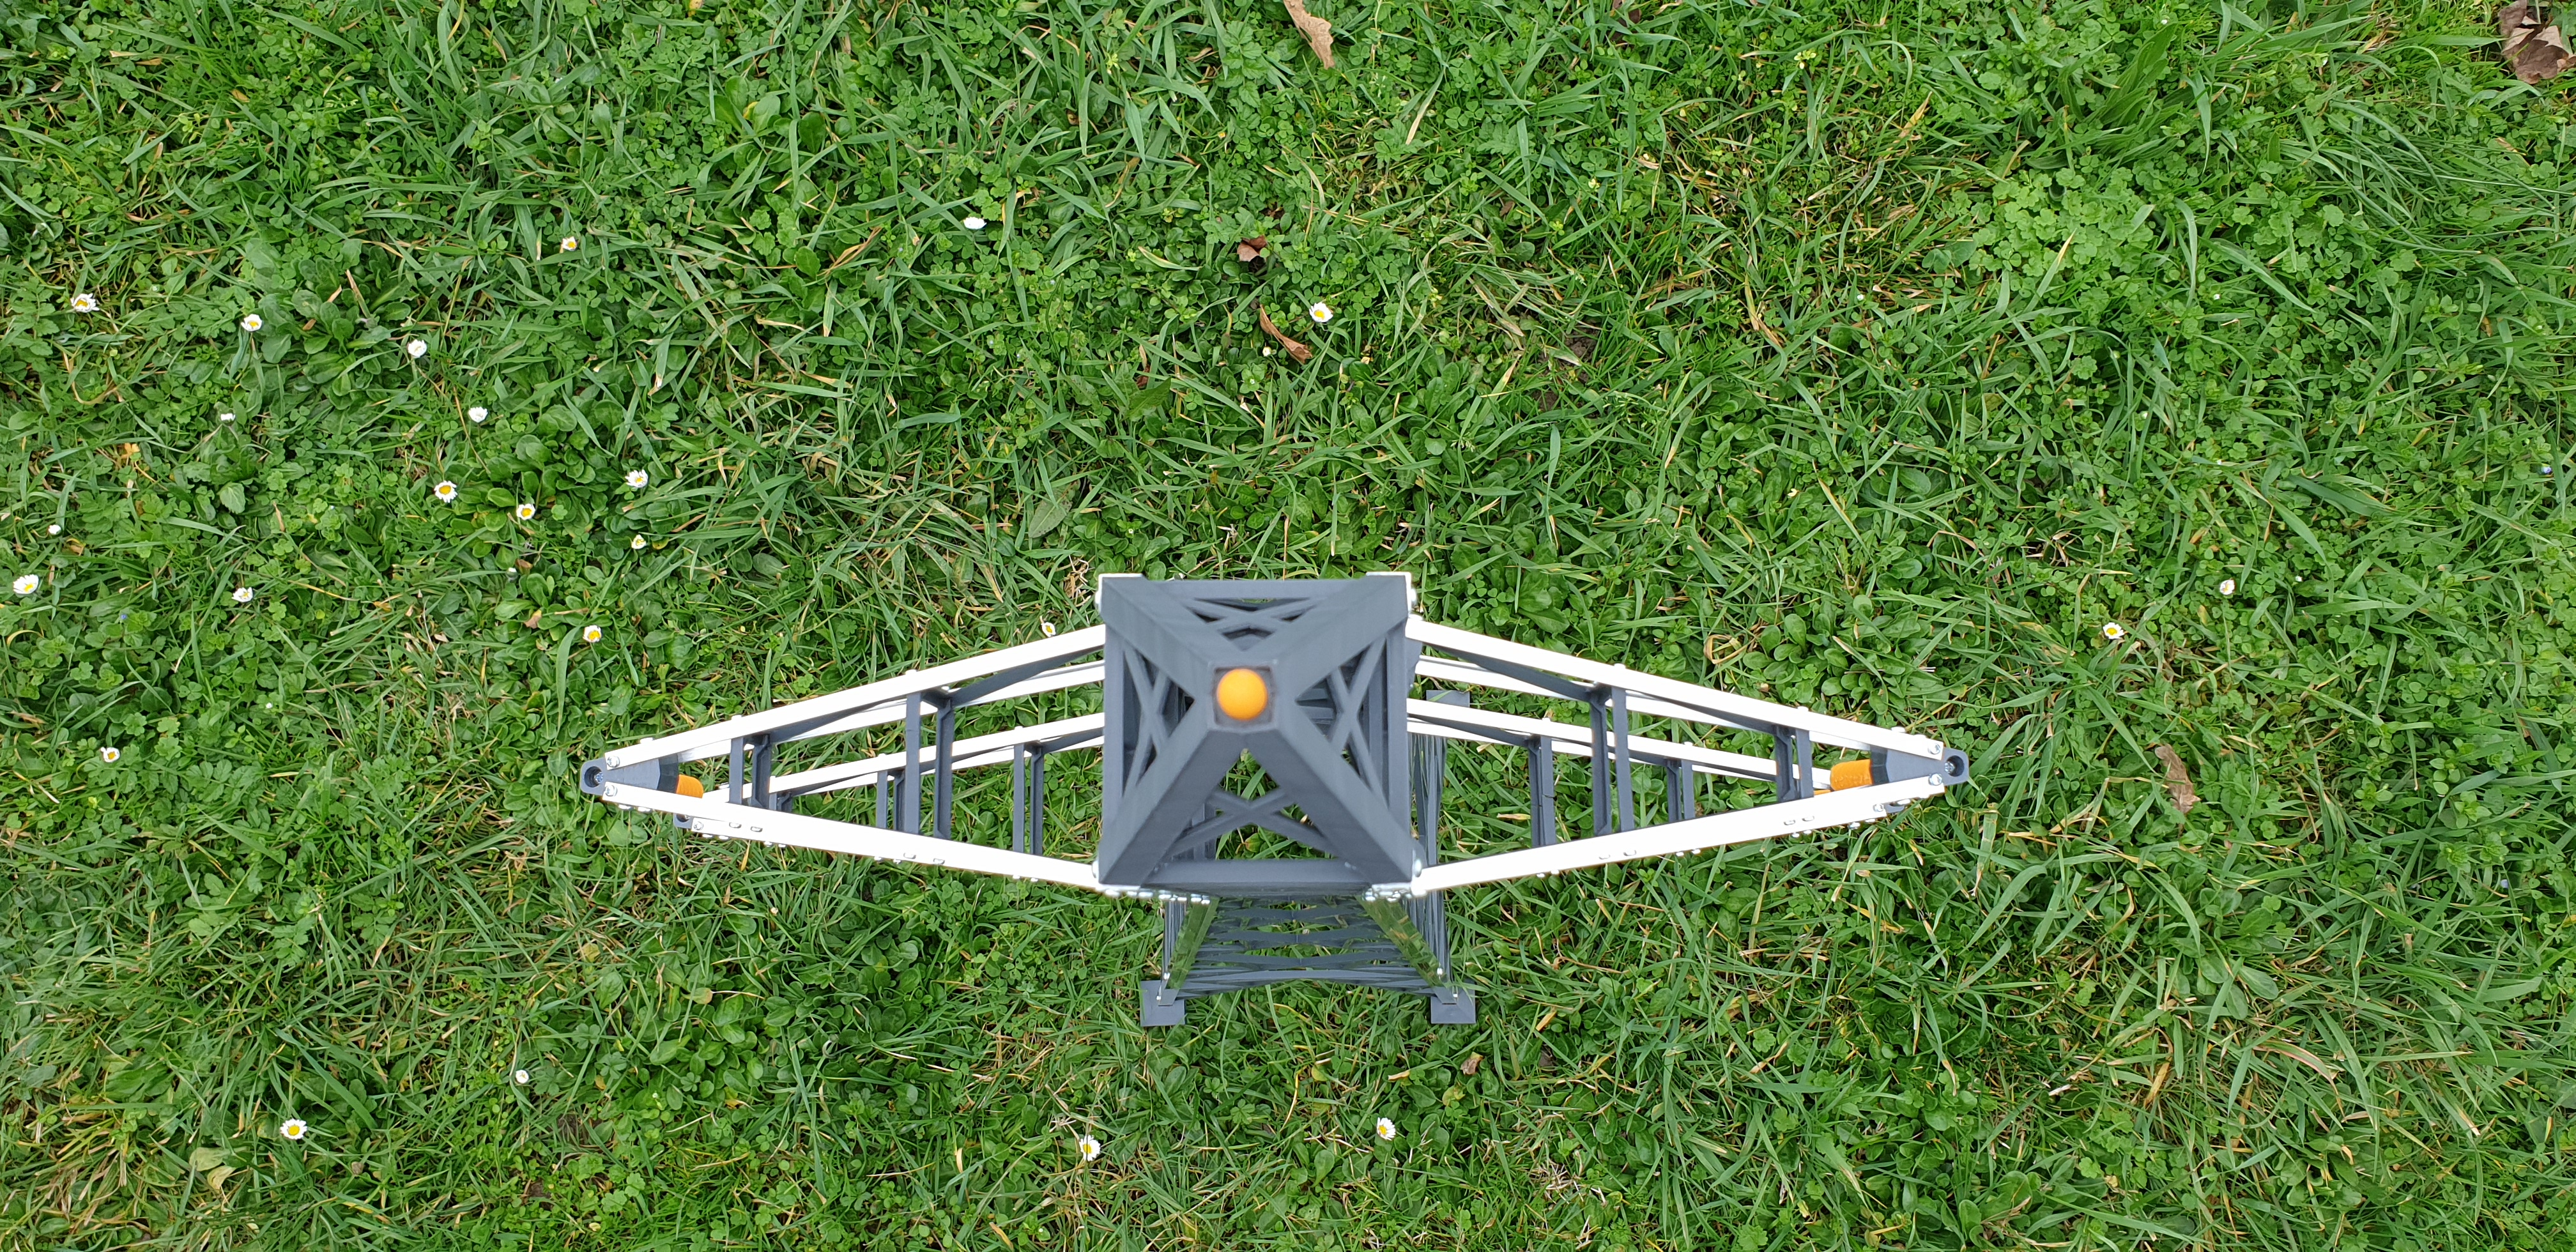pylon_phy: (570, 565, 1980, 910)
